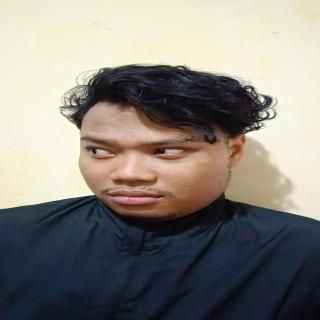Takut: (73, 96, 246, 225)
